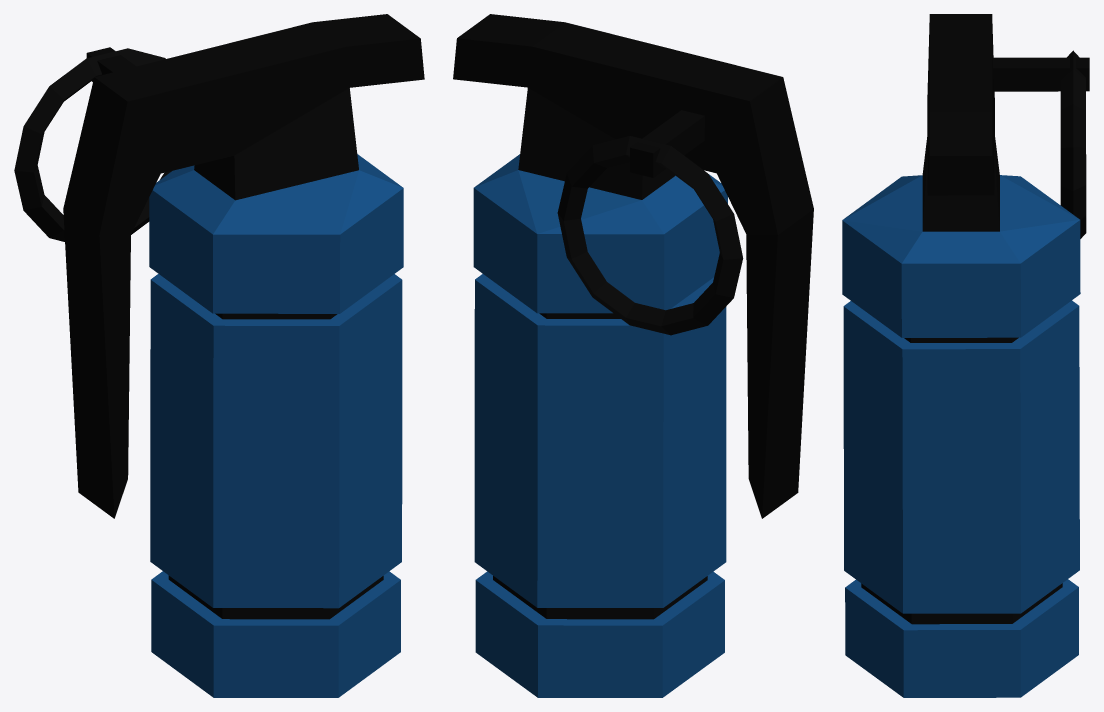
File: Granada_Stun.fbx
3 renders of one model, left to right at view 1: azimuth 30°, elevation 25°; view 2: azimuth 150°, elevation 25°; view 3: azimuth 270°, elevation 25°, orthographic. The views are drawn at different scales.
Parts seen in each view (by area): view 1: granadadehumo; view 2: granadadehumo; view 3: granadadehumo.
Part boxes in pixels (x1,y1,x2,y2): granadadehumo: (14, 14, 424, 697); granadadehumo: (453, 14, 813, 697); granadadehumo: (842, 14, 1089, 697).
Bounding box in the file's own units: 1.22 × 2.12 × 0.8381.
